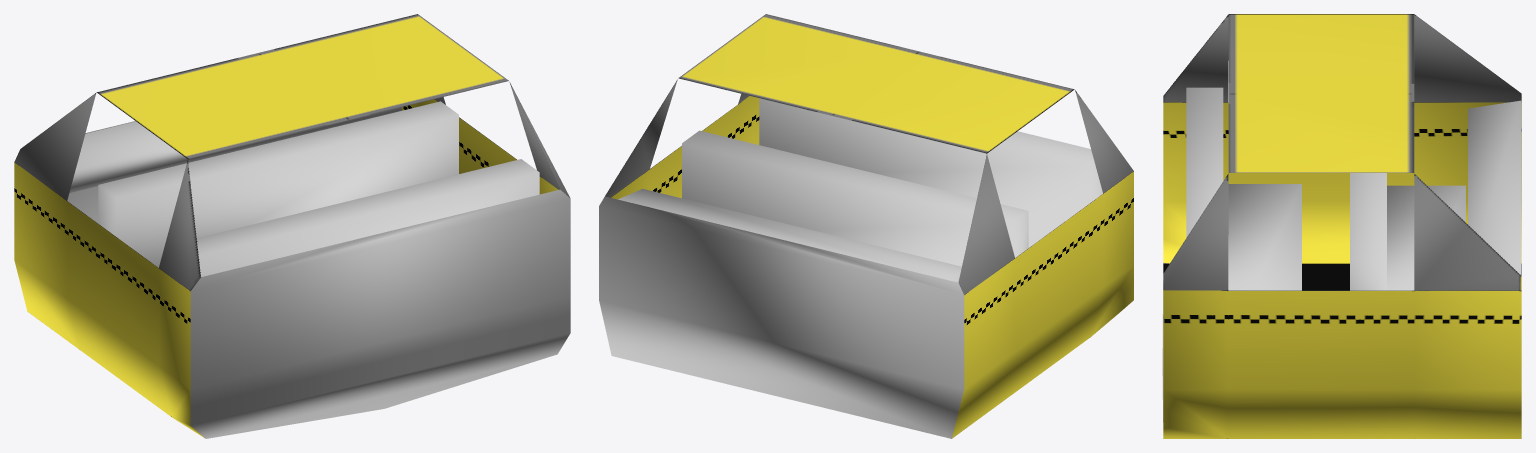
Rendered from inside.fbx.
3 renders of one model, left to right at view 1: azimuth 30°, elevation 25°; view 2: azimuth 150°, elevation 25°; view 3: azimuth 270°, elevation 25°, orthographic. The views are drawn at different scales.
Visible parts, largest first — view 1: Shell; view 2: Shell; view 3: Shell.
Part boxes in pixels (x1=…): Shell: x1=14, y1=14, x2=570, y2=438; Shell: x1=599, y1=14, x2=1133, y2=438; Shell: x1=1162, y1=14, x2=1521, y2=438.
Bounding box in the file's own units: 2 × 1.34 × 1.61.
